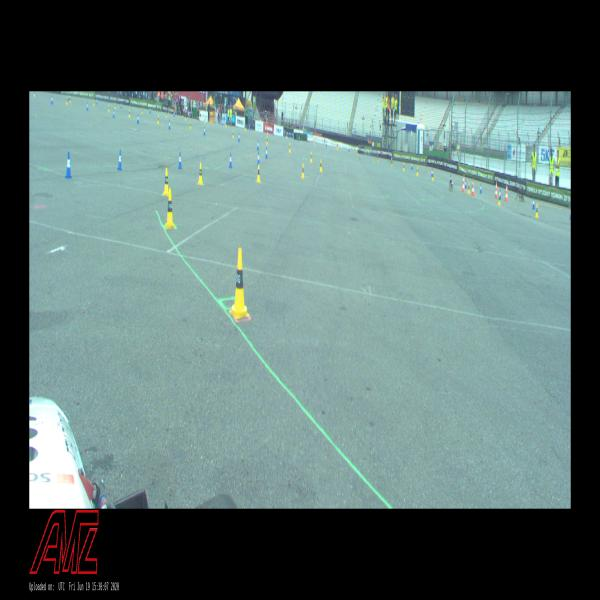blue_cone: (66, 152, 72, 178), (118, 149, 123, 171), (178, 152, 182, 169), (229, 153, 232, 168), (257, 152, 260, 165), (265, 147, 268, 158), (532, 198, 535, 209), (86, 102, 89, 111), (257, 140, 259, 150), (238, 132, 240, 142), (168, 120, 170, 130), (480, 184, 482, 194), (137, 114, 139, 123), (113, 109, 115, 118), (51, 95, 53, 104), (465, 179, 467, 188), (500, 189, 501, 200), (204, 126, 205, 135)
large_orange_cone: (471, 178, 475, 196), (494, 181, 498, 198), (462, 174, 465, 193), (505, 184, 508, 201)
yellow_cone: (230, 248, 249, 318), (166, 188, 174, 228), (163, 168, 169, 195), (198, 163, 203, 184), (256, 164, 260, 183), (301, 163, 305, 179), (536, 204, 538, 218), (157, 115, 160, 124), (320, 159, 322, 172), (468, 183, 470, 194), (498, 194, 500, 205), (310, 152, 312, 162), (289, 142, 291, 152), (266, 136, 268, 144), (128, 110, 130, 118), (402, 163, 404, 171), (416, 167, 418, 175), (432, 172, 434, 180), (108, 105, 110, 112), (66, 97, 68, 104), (34, 92, 36, 97), (190, 121, 191, 129)
